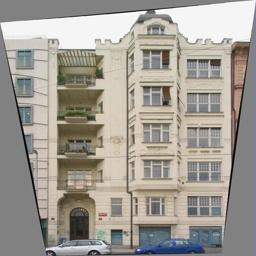building: (49, 12, 231, 240)
